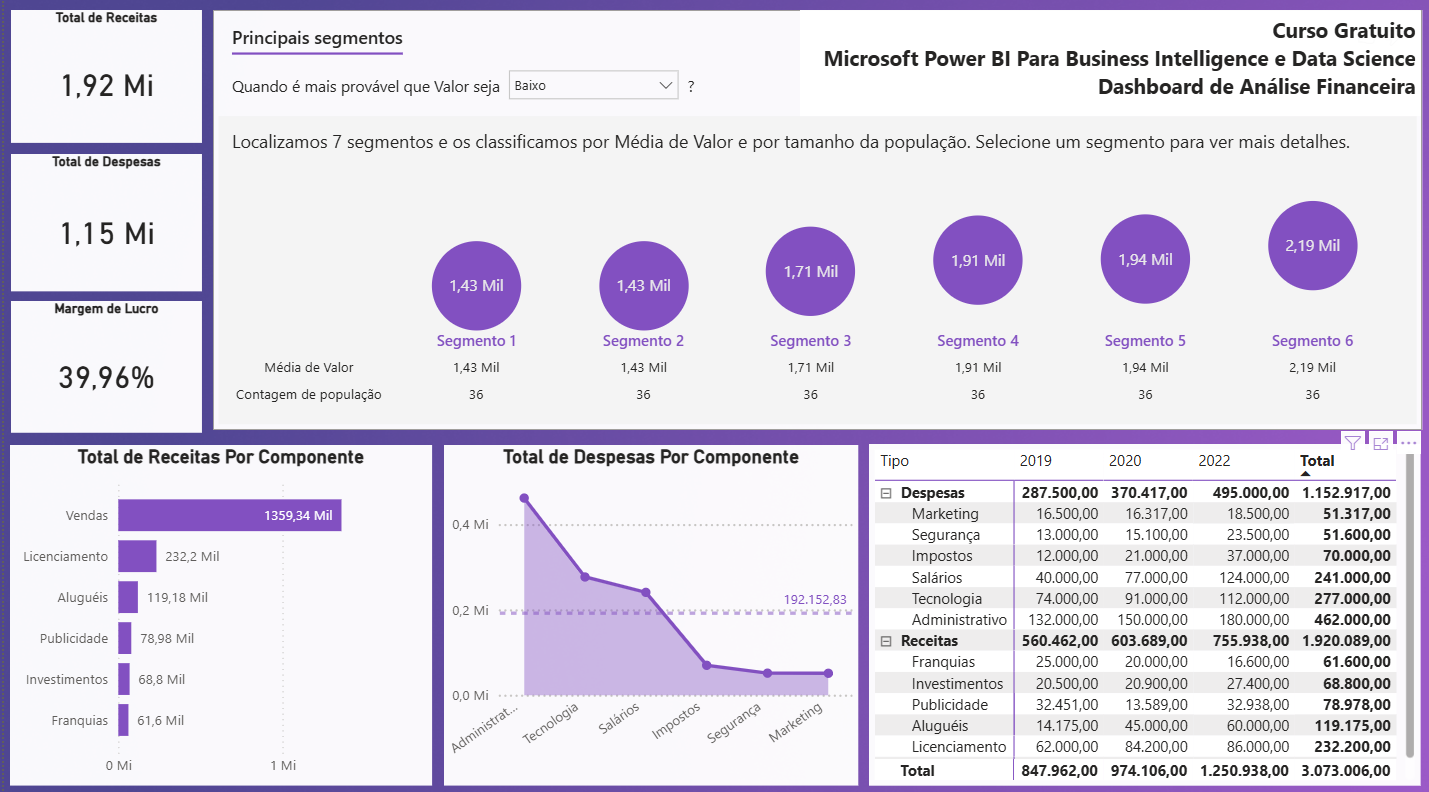

Layout of this report page (visuals, bound fields, positions):
{"tool":"powerbi","page":{"name":"Dashboard","canvas":[1280,720],"ordinal":0},"visuals":[{"type":"card","title":"Total de  Receitas","fields":{"Values":["Medidas.TotalReceitas"]},"box":[6.2,16.1,171,119],"z":0},{"type":"card","title":"Total de Despesas","fields":{"Values":["Medidas.TotalDespesas"]},"box":[6.2,145,171,122.7],"z":1000},{"type":"card","title":"Margem de Lucro","fields":{"Values":["Medidas.Margem de Lucro"]},"box":[6.2,276.4,171,117.7],"z":2000},{"type":"clusteredBarChart","title":"Total de Receitas Por Componente","fields":{"Category":["DadosFinanceiros.Componente"],"Y":["Medidas.TotalReceitas"]},"box":[5.5,405.3,377.9,305],"z":3000},{"type":"areaChart","title":"Total de Despesas Por Componente","fields":{"Category":["DadosFinanceiros.Componente"],"Y":["Medidas.TotalDespesas"]},"box":[394.4,405.3,371,305],"z":4000},{"type":"pivotTable","fields":{"Rows":["DadosFinanceiros.Tipo","DadosFinanceiros.Componente"],"Values":["Sum(DadosFinanceiros.Valor)"],"Columns":["DadosFinanceiros.Data.Variation.Hierarquia de datas.Ano"]},"box":[774.7,404.7,494,305.9],"z":5000},{"type":"keyDriversVisual","fields":{"ExplainBy":["DadosFinanceiros.Componente","DadosFinanceiros.Tipo"],"Target":["DadosFinanceiros.Valor"]},"box":[187.4,16.2,1082.7,376.2],"z":6000},{"type":"textbox","box":[713.1,16.5,556.5,94.8],"z":7000}]}

Visuals, with their boxes in screenshot pixels (x1, y1, x2, y2), scaled from the page's 1280x720 canvas onto the 1429x792 screenshot:
"Total de  Receitas" card: <bbox>7, 18, 198, 149</bbox>
"Total de Despesas" card: <bbox>7, 160, 198, 294</bbox>
"Margem de Lucro" card: <bbox>7, 304, 198, 434</bbox>
"Total de Receitas Por Componente" clusteredBarChart: <bbox>6, 446, 428, 781</bbox>
"Total de Despesas Por Componente" areaChart: <bbox>440, 446, 854, 781</bbox>
pivotTable - DadosFinanceiros.Tipo x DadosFinanceiros.Componente: <bbox>865, 445, 1416, 782</bbox>
keyDriversVisual - DadosFinanceiros.Componente x DadosFinanceiros.Tipo: <bbox>209, 18, 1418, 432</bbox>
textbox: <bbox>796, 18, 1417, 122</bbox>
